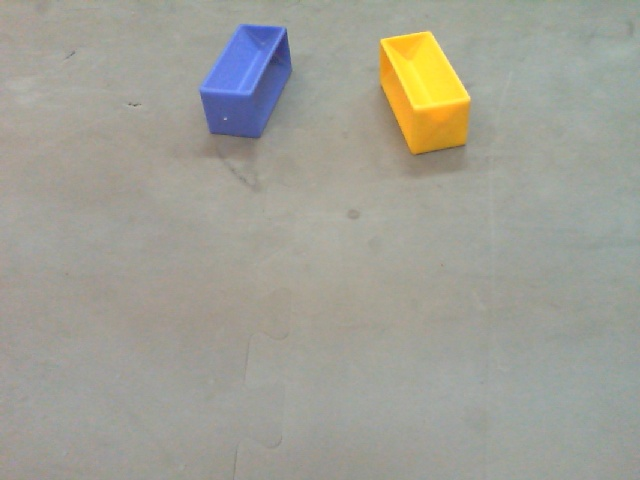BlueSample: (198, 22, 294, 142)
YellowSample: (375, 27, 472, 161)
